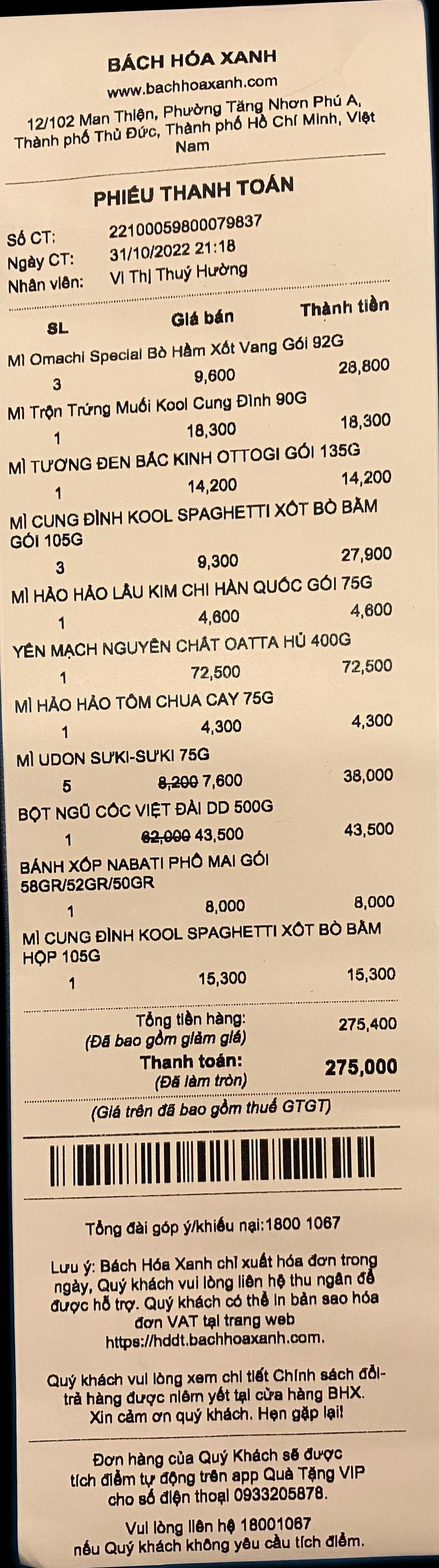Date: (97, 239, 195, 264)
Store_Name: (80, 45, 288, 73)
Total_Amount: (18, 1005, 416, 1037)
